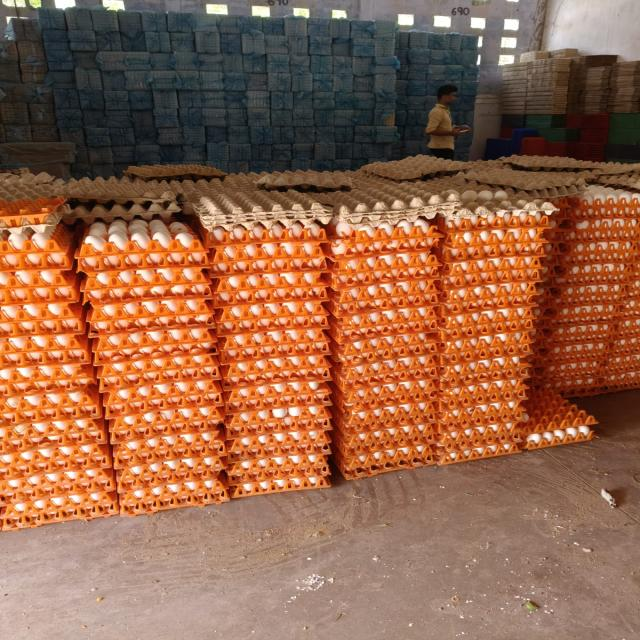egg_tray: (86, 219, 228, 515), (207, 222, 330, 497), (325, 219, 439, 478), (439, 212, 547, 464), (0, 303, 116, 528), (99, 343, 228, 515), (534, 187, 638, 394), (206, 222, 328, 384), (97, 330, 223, 470), (0, 388, 117, 529), (207, 222, 326, 357), (326, 220, 437, 364), (0, 282, 101, 433), (224, 356, 330, 496), (225, 366, 330, 497), (442, 227, 542, 364), (325, 219, 439, 339), (94, 330, 222, 436), (213, 272, 328, 388), (105, 380, 225, 490), (0, 418, 117, 530), (332, 356, 437, 478), (84, 268, 214, 363), (220, 327, 330, 438), (0, 387, 110, 497), (323, 174, 578, 221), (0, 270, 94, 397), (226, 380, 329, 495), (439, 218, 545, 329), (174, 175, 331, 249), (201, 211, 325, 304), (172, 175, 331, 247), (438, 212, 548, 316), (78, 220, 210, 306), (332, 379, 437, 479), (114, 423, 228, 515), (214, 272, 326, 363), (223, 356, 330, 447), (85, 269, 213, 342), (438, 359, 527, 463), (327, 282, 437, 365), (545, 218, 637, 317), (172, 174, 330, 228), (110, 410, 225, 484), (0, 268, 85, 363), (439, 344, 530, 432), (549, 196, 638, 281), (0, 412, 111, 480), (76, 217, 208, 274), (557, 190, 639, 277), (326, 278, 437, 341), (319, 179, 455, 229), (205, 220, 325, 276), (227, 432, 330, 497), (117, 456, 228, 516), (439, 355, 525, 432), (437, 206, 550, 262), (405, 180, 567, 219), (90, 315, 216, 365), (333, 420, 436, 479), (224, 380, 330, 437), (318, 179, 449, 224), (332, 423, 437, 479), (0, 459, 115, 510), (412, 174, 579, 208), (437, 402, 524, 464), (63, 178, 180, 224), (598, 260, 639, 391), (194, 192, 331, 230), (121, 464, 225, 514), (191, 191, 330, 228), (81, 268, 211, 306), (97, 352, 220, 392), (532, 331, 614, 391), (87, 298, 213, 337), (325, 218, 441, 260), (436, 410, 523, 465), (521, 387, 597, 449), (118, 474, 228, 516), (602, 266, 639, 390), (1, 491, 118, 530), (103, 380, 222, 418), (93, 328, 215, 365), (227, 431, 330, 474), (327, 251, 439, 290), (108, 406, 222, 444), (229, 456, 331, 498), (217, 328, 329, 366), (0, 385, 101, 427), (213, 271, 326, 308), (511, 198, 573, 265), (214, 300, 327, 336), (434, 418, 521, 464), (409, 174, 531, 206), (402, 178, 497, 219), (20, 485, 114, 526), (555, 203, 639, 248), (0, 418, 106, 452), (221, 356, 331, 388), (0, 224, 74, 271), (440, 306, 538, 341), (441, 356, 531, 394), (439, 256, 545, 288), (457, 198, 566, 229), (332, 356, 437, 388), (0, 362, 95, 397), (467, 180, 585, 208), (458, 186, 567, 216), (536, 321, 624, 357), (58, 177, 174, 204), (461, 167, 585, 192), (441, 331, 532, 365), (0, 303, 85, 339), (229, 468, 331, 498), (441, 377, 526, 413), (503, 156, 639, 178), (539, 199, 570, 295), (568, 184, 639, 222), (0, 270, 79, 304), (360, 155, 466, 180), (540, 282, 628, 312), (411, 173, 502, 202), (540, 296, 621, 328), (532, 360, 603, 396), (72, 200, 180, 223), (0, 196, 68, 231), (572, 185, 639, 219), (559, 239, 637, 268), (438, 199, 555, 218), (256, 170, 355, 192), (0, 195, 65, 228), (499, 186, 583, 210), (170, 178, 222, 216), (550, 263, 629, 288), (125, 164, 226, 183), (0, 173, 62, 202), (525, 425, 595, 449), (10, 227, 72, 253), (503, 155, 603, 171), (514, 182, 585, 204), (599, 353, 639, 392), (13, 270, 64, 300), (0, 168, 62, 184), (623, 265, 639, 320), (563, 322, 612, 338), (594, 174, 639, 191), (227, 416, 269, 434), (596, 162, 639, 175), (0, 168, 29, 182), (305, 406, 325, 425), (471, 158, 505, 169), (597, 272, 625, 285), (101, 472, 113, 492), (571, 278, 593, 286), (172, 458, 201, 464), (334, 334, 353, 343), (277, 409, 295, 418), (118, 470, 126, 490), (494, 192, 504, 207), (183, 468, 195, 480), (502, 190, 516, 200), (259, 485, 281, 491), (95, 336, 107, 346), (99, 305, 111, 315), (253, 234, 269, 241), (0, 174, 10, 185), (585, 308, 598, 316), (17, 492, 28, 501), (439, 181, 448, 192), (319, 371, 328, 381), (78, 439, 90, 446), (607, 372, 614, 383), (291, 456, 298, 467), (57, 356, 68, 363), (49, 477, 57, 486), (558, 308, 567, 316), (273, 360, 284, 366), (118, 477, 124, 488), (169, 362, 179, 368), (147, 334, 153, 344), (119, 305, 126, 313), (334, 380, 341, 388), (286, 358, 295, 364), (601, 328, 607, 337), (318, 482, 327, 488), (183, 203, 189, 212), (268, 458, 281, 462), (245, 450, 252, 457), (621, 362, 629, 368), (159, 299, 167, 305), (536, 310, 542, 318), (16, 178, 24, 184), (183, 475, 194, 479), (171, 333, 178, 339), (56, 260, 63, 266), (32, 256, 39, 262), (431, 261, 437, 268), (546, 309, 552, 316), (595, 194, 605, 198), (163, 464, 171, 469), (172, 475, 177, 483), (101, 470, 107, 476), (129, 482, 135, 488), (276, 236, 285, 240), (587, 382, 593, 388), (241, 461, 250, 465), (190, 314, 197, 319), (291, 407, 298, 412), (317, 350, 325, 354), (49, 221, 57, 225), (563, 278, 569, 283), (2, 426, 12, 429), (307, 419, 313, 424), (425, 283, 431, 288), (111, 336, 118, 340), (238, 490, 245, 494), (291, 426, 298, 430), (252, 351, 259, 355), (109, 279, 114, 284), (190, 468, 194, 474), (13, 358, 19, 362), (554, 212, 558, 218), (489, 315, 493, 321), (527, 216, 533, 220), (299, 350, 305, 354), (230, 344, 234, 350), (66, 472, 73, 475), (283, 331, 290, 334), (183, 205, 186, 212), (450, 202, 454, 207), (118, 472, 122, 477), (338, 340, 344, 343), (541, 218, 545, 222), (546, 312, 550, 316), (294, 459, 299, 462), (9, 348, 14, 351), (493, 429, 498, 432), (182, 416, 187, 419), (78, 452, 81, 457), (633, 220, 636, 225), (562, 316, 567, 319), (461, 193, 463, 200), (496, 192, 503, 194), (243, 466, 250, 468), (57, 503, 61, 506), (122, 483, 126, 486), (586, 174, 590, 177), (321, 316, 325, 319), (199, 299, 203, 302), (228, 430, 230, 436), (27, 247, 31, 250), (225, 358, 229, 361), (213, 247, 216, 251), (407, 211, 410, 215), (5, 490, 7, 495), (490, 187, 495, 189), (72, 452, 77, 454), (490, 186, 495, 188), (396, 231, 401, 233), (283, 460, 286, 463), (177, 415, 180, 418), (114, 311, 117, 314), (89, 233, 92, 236), (185, 469, 188, 472), (216, 448, 218, 452), (85, 235, 87, 239), (499, 222, 501, 226), (478, 187, 482, 189), (465, 231, 469, 233), (541, 218, 545, 220), (52, 442, 54, 446), (506, 188, 510, 190), (335, 334, 337, 338), (601, 310, 605, 312), (137, 466, 139, 470), (119, 474, 122, 476), (610, 286, 612, 289), (535, 364, 538, 366), (141, 369, 147, 370), (159, 368, 162, 370), (132, 315, 134, 318), (181, 300, 183, 303), (97, 233, 99, 236), (492, 221, 494, 224), (565, 318, 571, 319), (294, 482, 297, 484), (380, 345, 382, 348), (499, 358, 501, 361), (237, 450, 238, 455), (130, 334, 135, 335), (217, 453, 222, 454), (210, 336, 212, 338), (230, 407, 234, 408), (459, 197, 461, 199), (194, 416, 196, 418), (310, 374, 312, 376), (629, 328, 631, 330), (248, 492, 250, 494), (12, 248, 14, 250), (389, 238, 393, 239), (401, 248, 403, 250), (557, 281, 559, 283), (410, 217, 412, 219), (5, 521, 6, 524), (236, 238, 239, 239), (454, 249, 457, 250), (523, 198, 526, 199), (34, 505, 37, 506), (62, 445, 65, 446), (326, 362, 327, 364), (156, 469, 158, 470), (298, 238, 300, 239), (604, 305, 606, 306), (604, 306, 605, 308), (169, 421, 170, 423), (466, 176, 467, 178), (445, 246, 446, 248), (462, 237, 463, 239), (617, 269, 619, 270), (232, 356, 234, 357), (214, 253, 215, 255), (570, 210, 571, 212), (5, 514, 6, 515), (25, 489, 26, 490), (529, 341, 530, 342), (127, 416, 128, 417), (231, 238, 232, 239), (45, 296, 46, 297), (206, 421, 207, 422), (633, 333, 634, 334), (180, 413, 181, 414), (107, 323, 108, 324), (133, 318, 134, 319), (132, 319, 133, 320), (12, 407, 13, 408), (485, 187, 486, 188), (502, 245, 503, 246), (47, 436, 48, 437), (5, 272, 6, 273), (496, 367, 497, 368), (335, 278, 336, 279), (0, 509, 1, 510), (523, 414, 524, 415), (310, 358, 310, 359), (622, 303, 623, 303), (494, 430, 495, 430), (616, 370, 617, 370), (614, 364, 614, 366), (185, 470, 186, 470), (310, 456, 310, 457), (122, 472, 124, 472), (41, 274, 41, 274), (601, 324, 601, 326), (636, 210, 637, 210), (132, 434, 132, 434), (223, 368, 223, 368), (137, 260, 137, 262), (92, 241, 93, 241), (501, 332, 502, 332), (493, 314, 494, 314), (245, 488, 246, 488), (327, 414, 327, 416), (445, 192, 449, 192), (107, 452, 107, 453), (38, 441, 39, 441), (58, 292, 59, 292), (30, 264, 30, 266), (10, 253, 10, 255), (8, 242, 8, 243), (47, 474, 51, 474), (58, 505, 58, 505), (594, 172, 595, 172), (432, 261, 433, 261), (274, 332, 274, 332), (601, 278, 601, 279), (231, 414, 233, 414), (452, 216, 456, 216), (565, 312, 565, 314), (592, 310, 592, 310), (205, 462, 205, 463)
